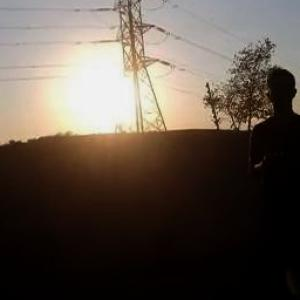follow: (241, 61, 300, 299)
